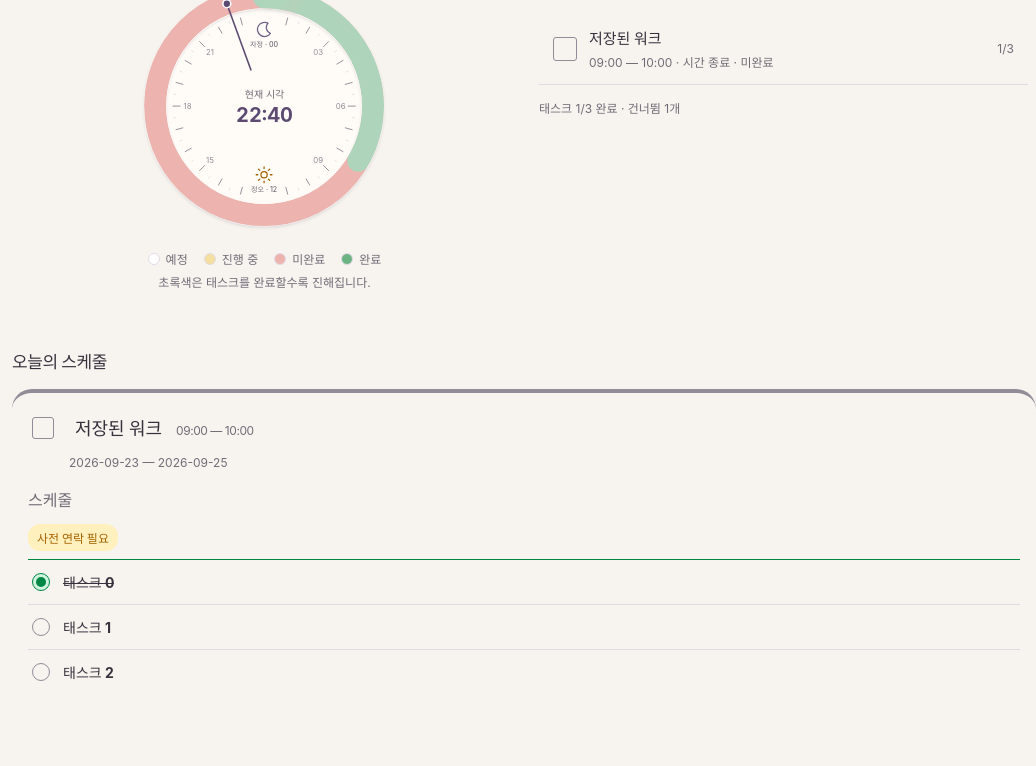
Test: updates saved progress after a successful check and preserves it on failed undo
(page scrolled)
Click the checkbox named "태스크 2 완료". click: (41, 672)
box: [32,663,50,681]
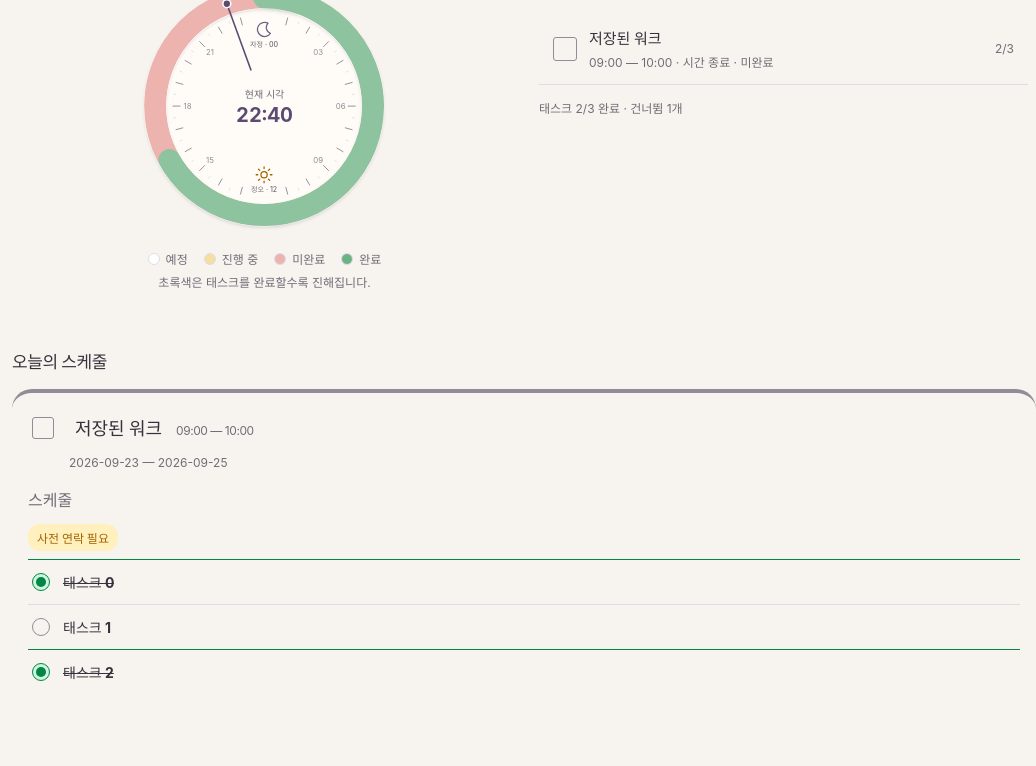
Expected: the checkbox named "태스크 2 완료" is checked
Expected: the text named "오늘의 태스크 진행률" shows "2/3", [539,101,683,116]
Click the checkbox named "태스크 2 완료". click: (41, 672)
box: [32,663,50,681]
(page scrolled)
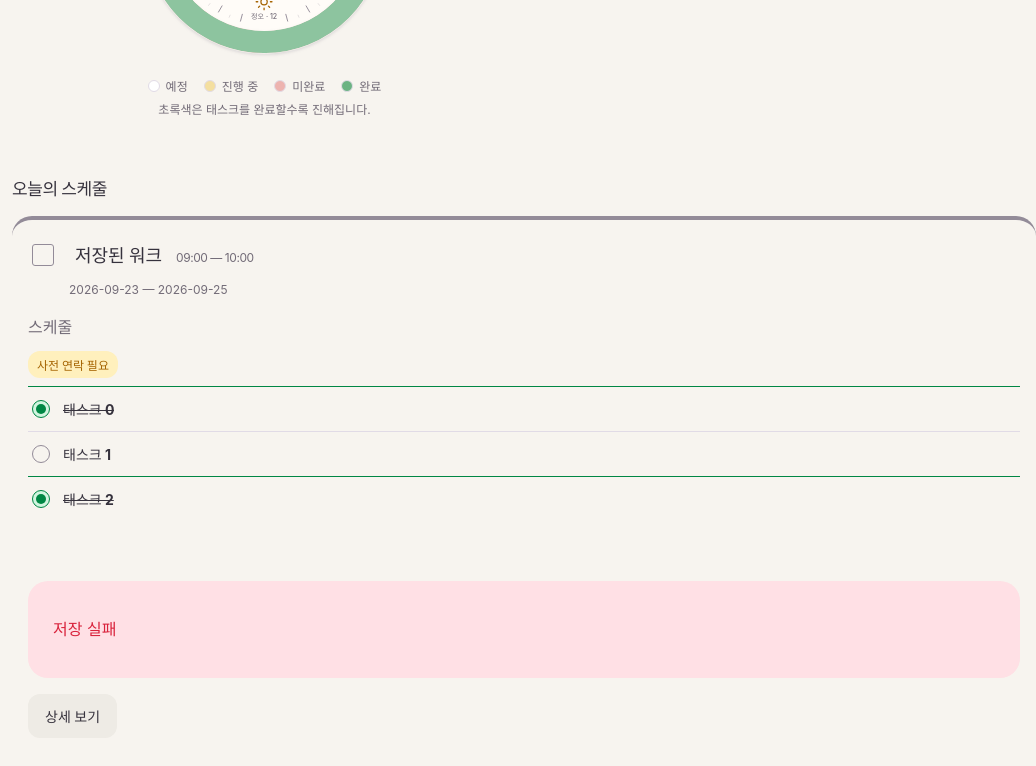
Expected: the checkbox named "태스크 2 완료" is checked, [32,490,50,508]
Expected: the text "저장 실패" is shown, [53,619,116,639]
